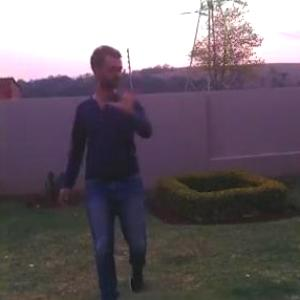follow_hand: (107, 72, 147, 116)
